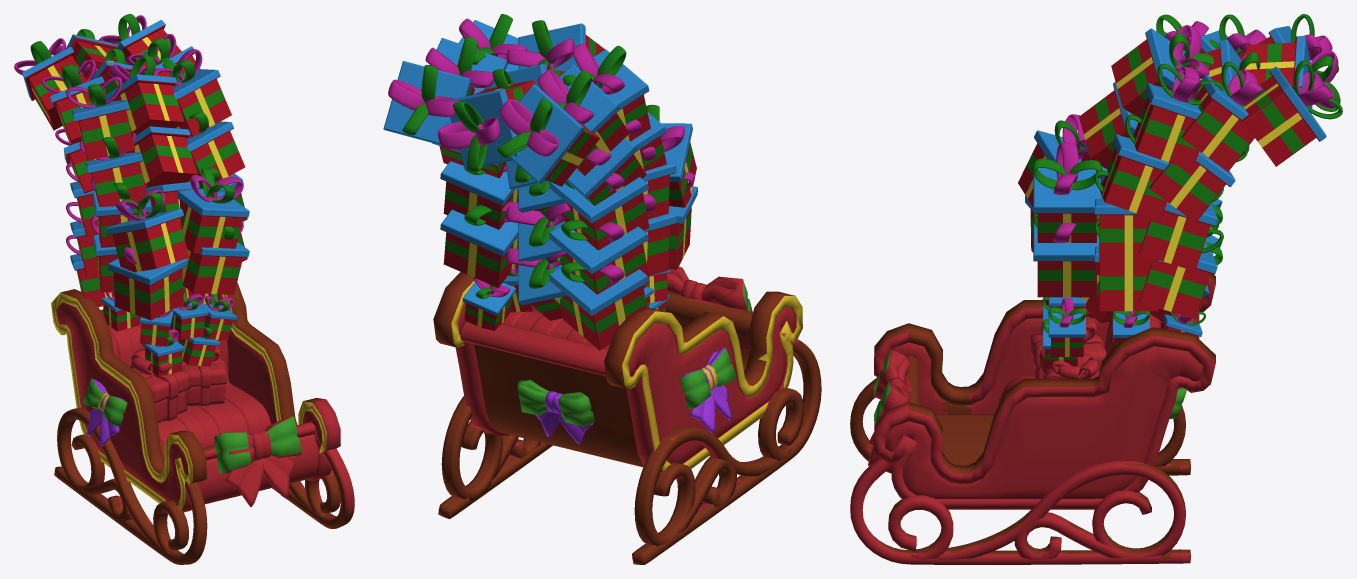
File: sleigh.glb
The picture shows the model from 3 angles, left to right: view 1: azimuth 30°, elevation 25°; view 2: azimuth 150°, elevation 25°; view 3: azimuth 270°, elevation 25°; orthographic projection. The views are drawn at different scales.
Visible parts, largest first — view 1: Sleigh, present_drop.019, present_drop.021, present_drop.034, present_drop.005, present_drop.033, present_drop.035, present_drop.028, present_drop.007, present_drop.039, present_drop.027, present_drop.029 (+19 smaller); view 2: Sleigh, present_drop.039, present_drop.013, present_drop.041, present_drop.040, present_drop.018, present_drop.016, present_drop.036, present_drop.024, present_drop.033, present_drop.026, present_drop.034 (+18 smaller); view 3: Sleigh, present_drop.041, present_drop.021, present_drop.035, present_drop.038, present_drop.034, present_drop.007, present_drop.029, present_drop.018, present_drop.026, present_drop.032, present_drop.040 (+11 smaller).
Part boxes in pixels (<box>): Sleigh: <box>51,282,354,564</box>; present_drop.019: <box>106,189,189,272</box>; present_drop.021: <box>177,168,249,253</box>; present_drop.034: <box>105,56,184,135</box>; present_drop.005: <box>108,247,187,320</box>; present_drop.033: <box>66,76,135,160</box>; present_drop.035: <box>153,49,231,136</box>; present_drop.028: <box>126,126,197,188</box>; present_drop.007: <box>182,222,249,294</box>; present_drop.039: <box>14,38,86,130</box>; present_drop.027: <box>79,133,148,206</box>; present_drop.029: <box>186,112,245,188</box>; Sleigh: <box>433,266,821,564</box>; present_drop.039: <box>495,84,599,186</box>; present_drop.013: <box>548,262,648,350</box>; present_drop.041: <box>383,61,474,149</box>; present_drop.040: <box>438,80,535,172</box>; present_drop.018: <box>440,201,518,287</box>; present_drop.016: <box>548,220,649,294</box>; present_drop.036: <box>537,64,629,175</box>; present_drop.024: <box>548,173,649,250</box>; present_drop.033: <box>562,43,650,141</box>; present_drop.026: <box>440,161,518,229</box>; present_drop.034: <box>506,20,604,71</box>; Sleigh: <box>850,273,1215,564</box>; present_drop.041: <box>1242,60,1342,166</box>; present_drop.021: <box>1033,142,1101,242</box>; present_drop.035: <box>1133,63,1223,170</box>; present_drop.038: <box>1181,61,1262,171</box>; present_drop.034: <box>1111,25,1213,117</box>; present_drop.007: <box>1033,213,1099,297</box>; present_drop.029: <box>1100,114,1168,221</box>; present_drop.018: <box>1139,228,1223,318</box>; present_drop.026: <box>1139,188,1223,270</box>; present_drop.032: <box>1149,149,1247,222</box>; present_drop.040: <box>1245,36,1340,113</box>.
Bounding box in the file's own units: 1.5 × 3.34 × 3.05.
